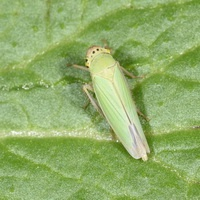insect: (85, 46, 149, 160)
